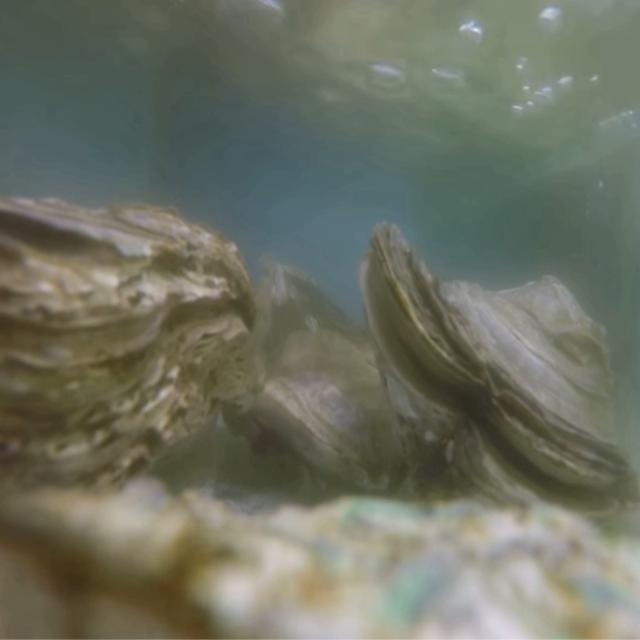Oyster-Closed: (0, 196, 257, 532)
Oyster-Indeterminate: (0, 477, 640, 640), (263, 332, 416, 503), (266, 262, 371, 372)
Oyster-Open: (358, 223, 640, 538)
